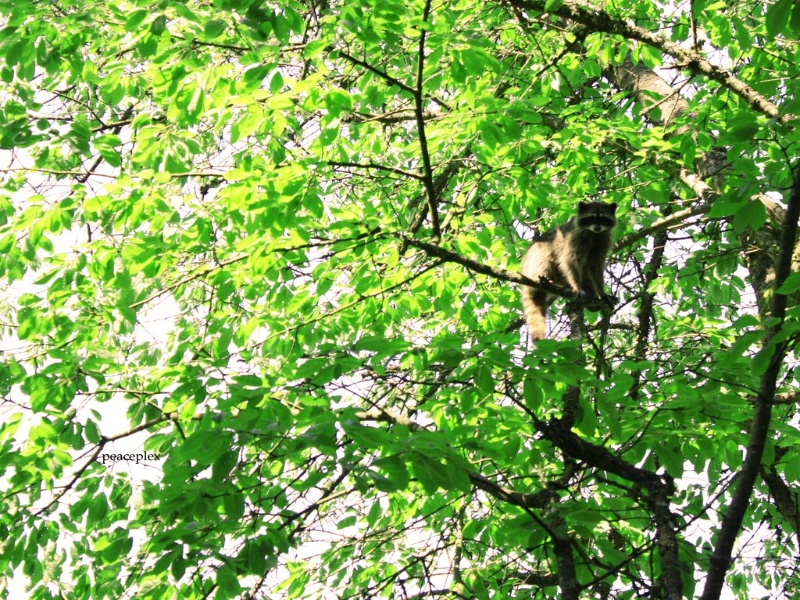raccoon: (510, 200, 619, 333)
